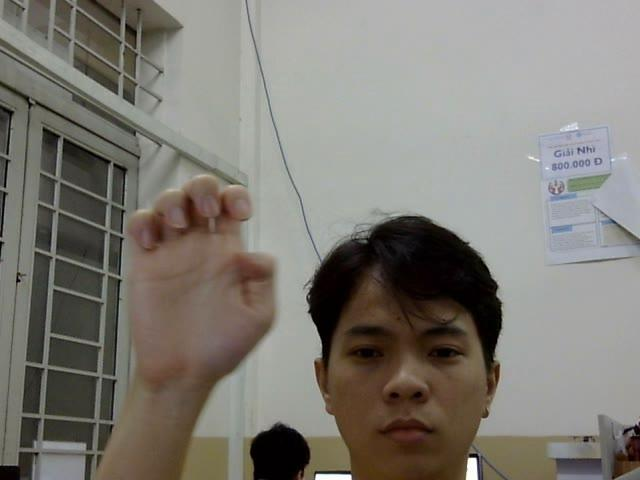E: (124, 171, 277, 377)
